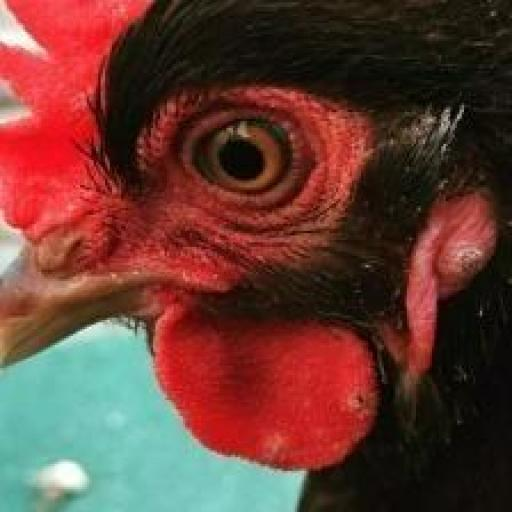disease: (240, 360, 386, 482), (414, 184, 507, 294)
